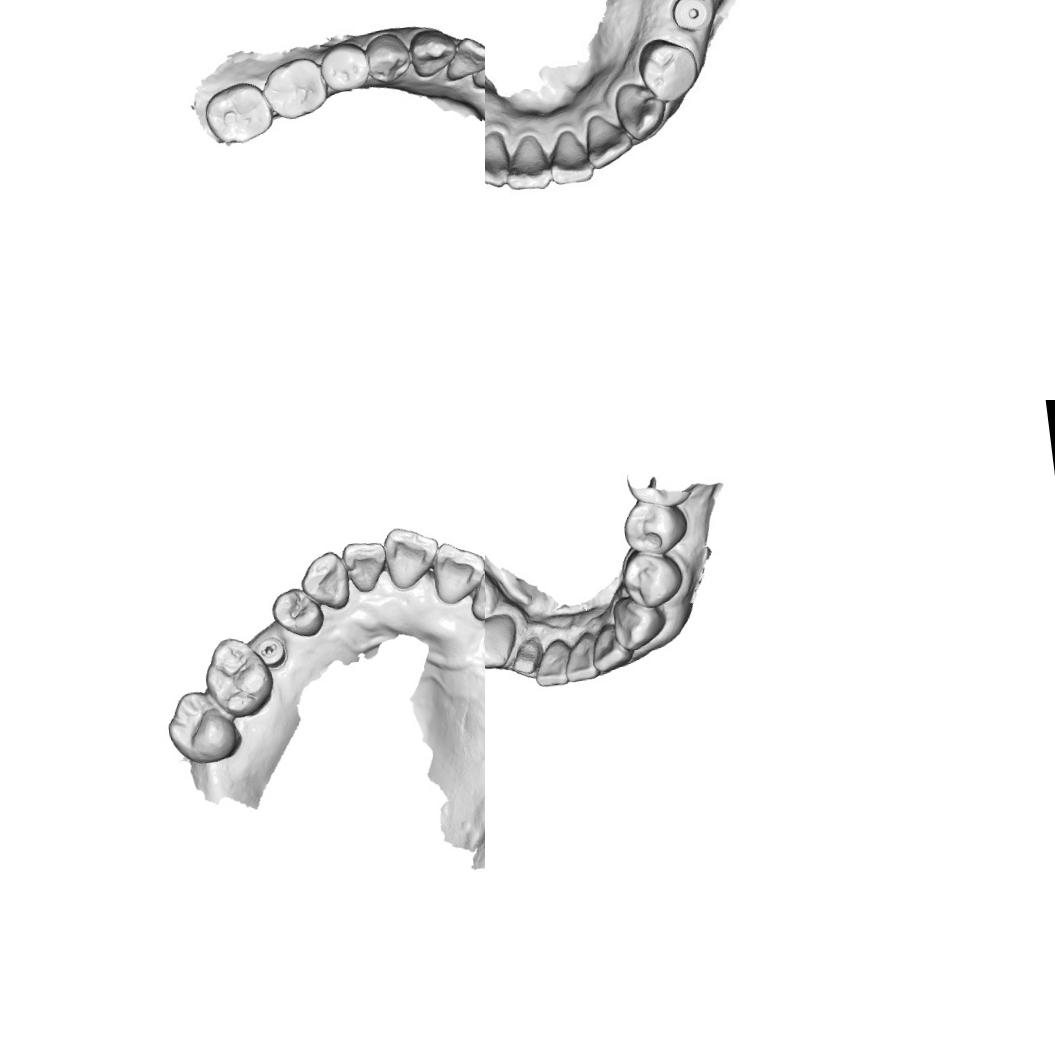canine: (296, 546, 354, 614), (610, 592, 668, 652), (407, 26, 460, 80), (614, 80, 664, 132), (485, 612, 521, 674)
crown: (510, 637, 544, 676)
implant: (663, 0, 721, 37)
implant_minus: (254, 632, 290, 671)
incisor: (380, 520, 444, 592), (429, 536, 485, 608), (339, 537, 392, 596), (503, 135, 557, 190), (548, 129, 597, 187), (583, 112, 631, 168), (588, 621, 636, 675), (439, 32, 485, 84), (560, 631, 599, 683), (532, 638, 568, 688), (485, 132, 513, 192), (464, 563, 485, 623), (467, 47, 485, 94)
molar: (198, 632, 278, 724), (162, 684, 246, 769), (200, 77, 274, 148), (258, 55, 330, 122)
premolar: (620, 496, 691, 558), (619, 547, 686, 611), (638, 35, 700, 104), (267, 582, 327, 642), (314, 38, 374, 96), (361, 29, 414, 86)
